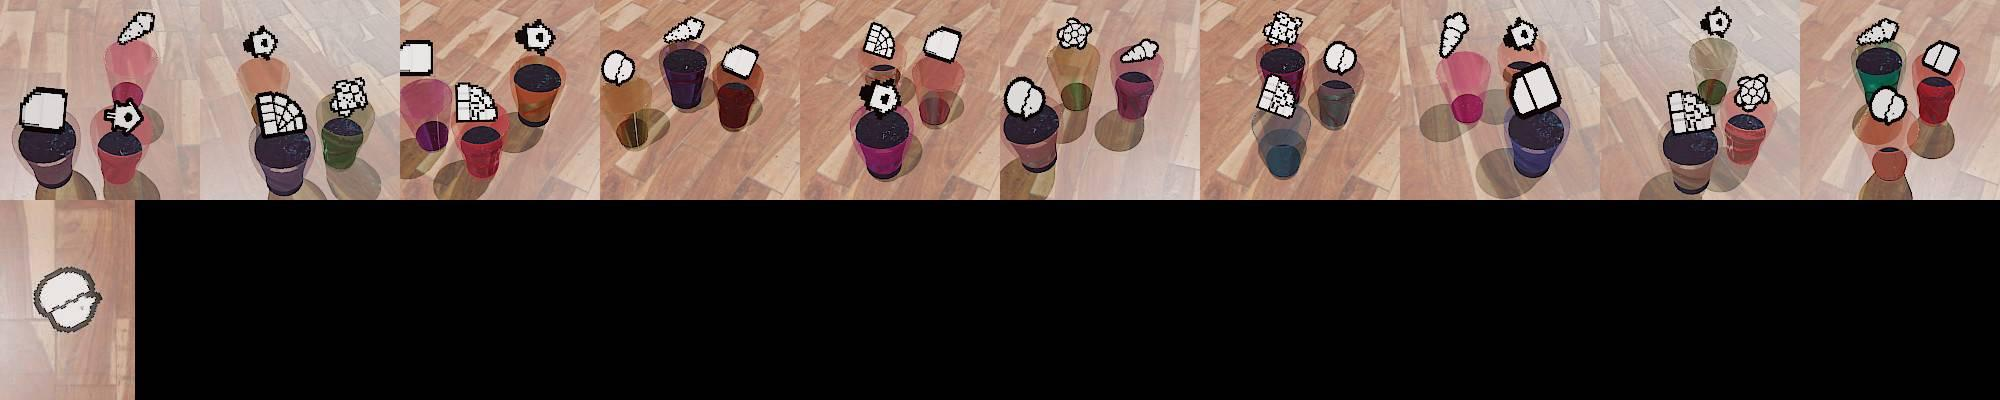icon: (32, 265, 103, 334), (1508, 62, 1562, 118), (1666, 88, 1717, 136), (255, 90, 309, 136), (19, 85, 70, 131), (857, 73, 901, 116), (1004, 75, 1046, 118), (1256, 74, 1297, 118), (455, 80, 496, 121), (514, 19, 557, 57), (328, 76, 369, 115), (1261, 11, 1302, 50), (102, 97, 144, 134), (1869, 87, 1908, 125), (1733, 73, 1772, 111), (922, 25, 962, 62), (861, 20, 897, 61), (1437, 11, 1468, 59), (116, 10, 156, 46), (719, 43, 760, 78), (662, 15, 707, 46), (1922, 41, 1960, 76), (241, 24, 278, 60), (1504, 15, 1540, 52), (1056, 15, 1093, 50), (1857, 18, 1901, 47), (601, 50, 635, 85), (401, 39, 434, 76), (1323, 41, 1357, 75), (1700, 6, 1732, 38), (1120, 38, 1159, 64)
